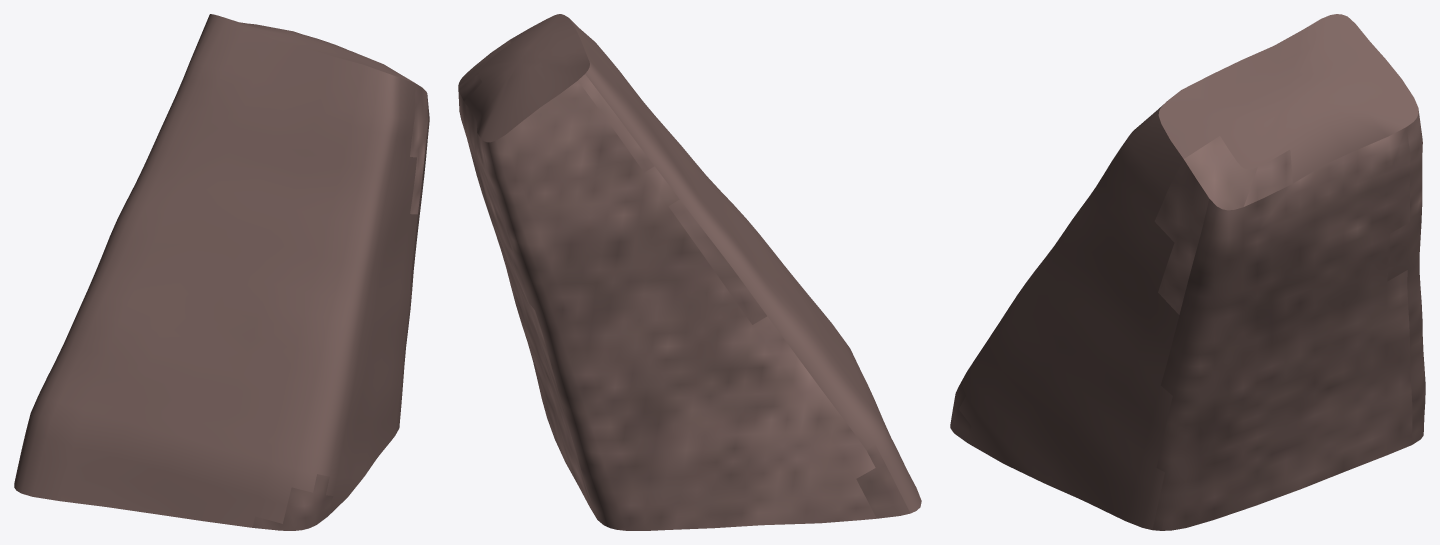
Rendered from TarHenge04.glb.
3 renders of one model, left to right at view 1: azimuth 30°, elevation 25°; view 2: azimuth 150°, elevation 25°; view 3: azimuth 270°, elevation 25°, orthographic. The views are drawn at different scales.
Visible parts, largest first — view 1: TarHenge04; view 2: TarHenge04; view 3: TarHenge04.
Part boxes in pixels (bbox=[...]): TarHenge04: bbox=[14, 14, 429, 530]; TarHenge04: bbox=[458, 14, 921, 530]; TarHenge04: bbox=[950, 14, 1425, 530].
Size of the model in its own units: 2.49 by 2.19 by 2.07.
Materials: 2 (1 with a texture image).
